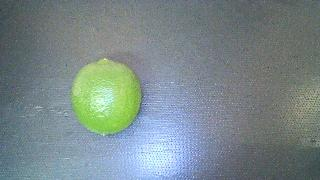EXPORTACION: (71, 58, 142, 136)
